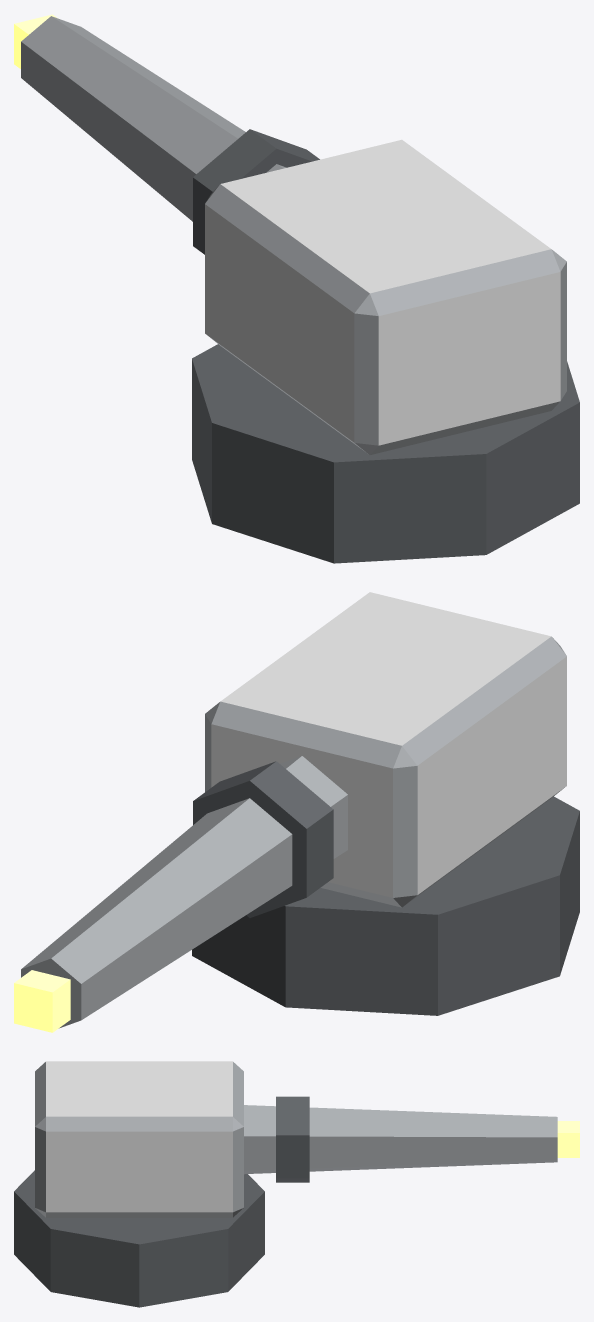
The model's file is heavy_laser_m.glb.
3 views of the same model, one above another, from view 1: azimuth 30°, elevation 25°; view 2: azimuth 150°, elevation 25°; view 3: azimuth 270°, elevation 25° (orthographic). The views are drawn at different scales.
Visible parts, largest first — view 1: heavy_laser_m_LOD0; view 2: heavy_laser_m_LOD0; view 3: heavy_laser_m_LOD0.
Boxes of the visible parts, left/top/right/bottom form: heavy_laser_m_LOD0: left=14, top=14, right=579, bottom=563; heavy_laser_m_LOD0: left=14, top=592, right=579, bottom=1032; heavy_laser_m_LOD0: left=14, top=1061, right=579, bottom=1307.
Size of what is drawn, in the model's own units: 0.9 by 0.655 by 2.03.
